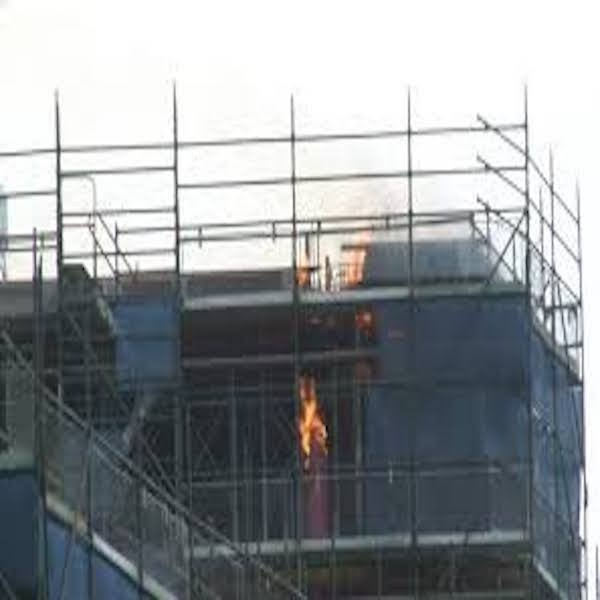fire: (290, 357, 340, 469)
